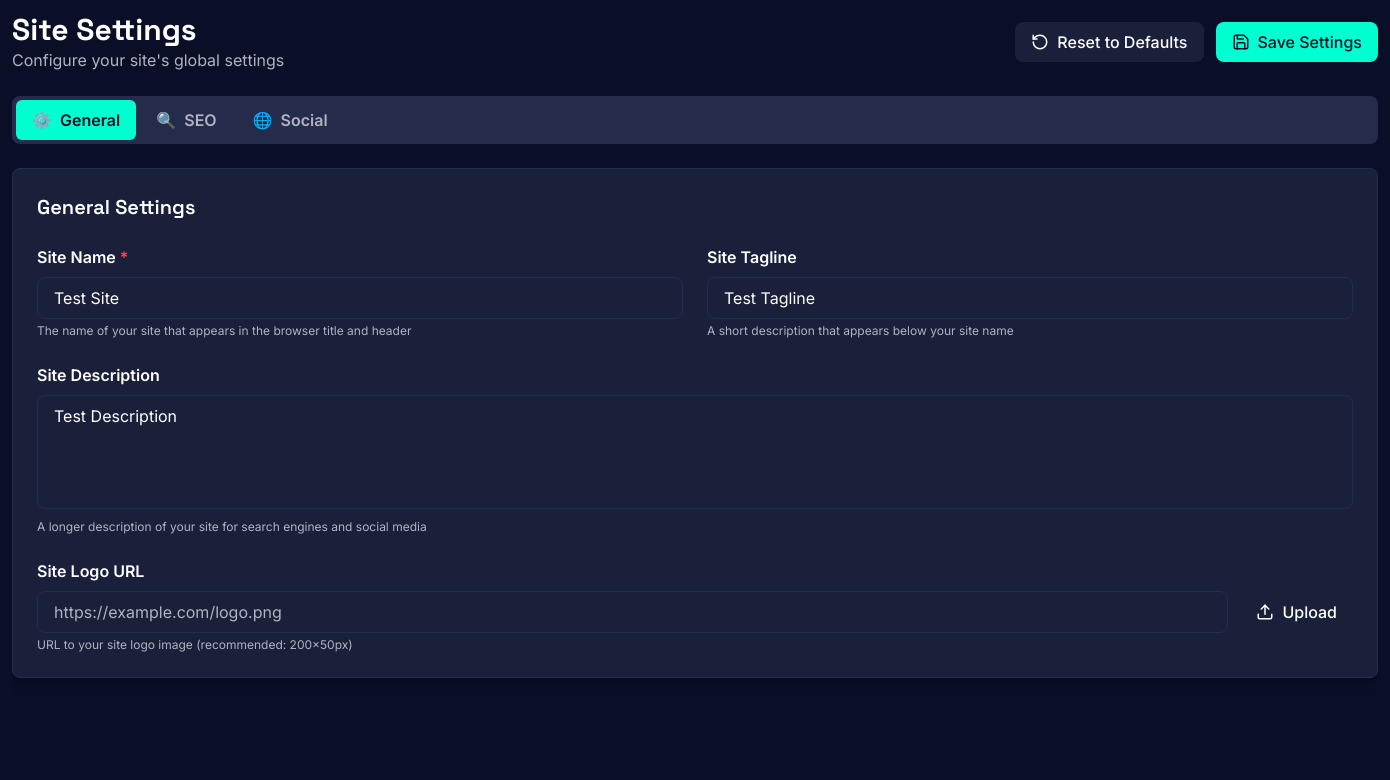
it: SettingsForm › should disable buttons while saving
This screenshot has width=1390, height=780.
Click the button "Save Settings" at (1297, 42), box [1216, 22, 1378, 62]
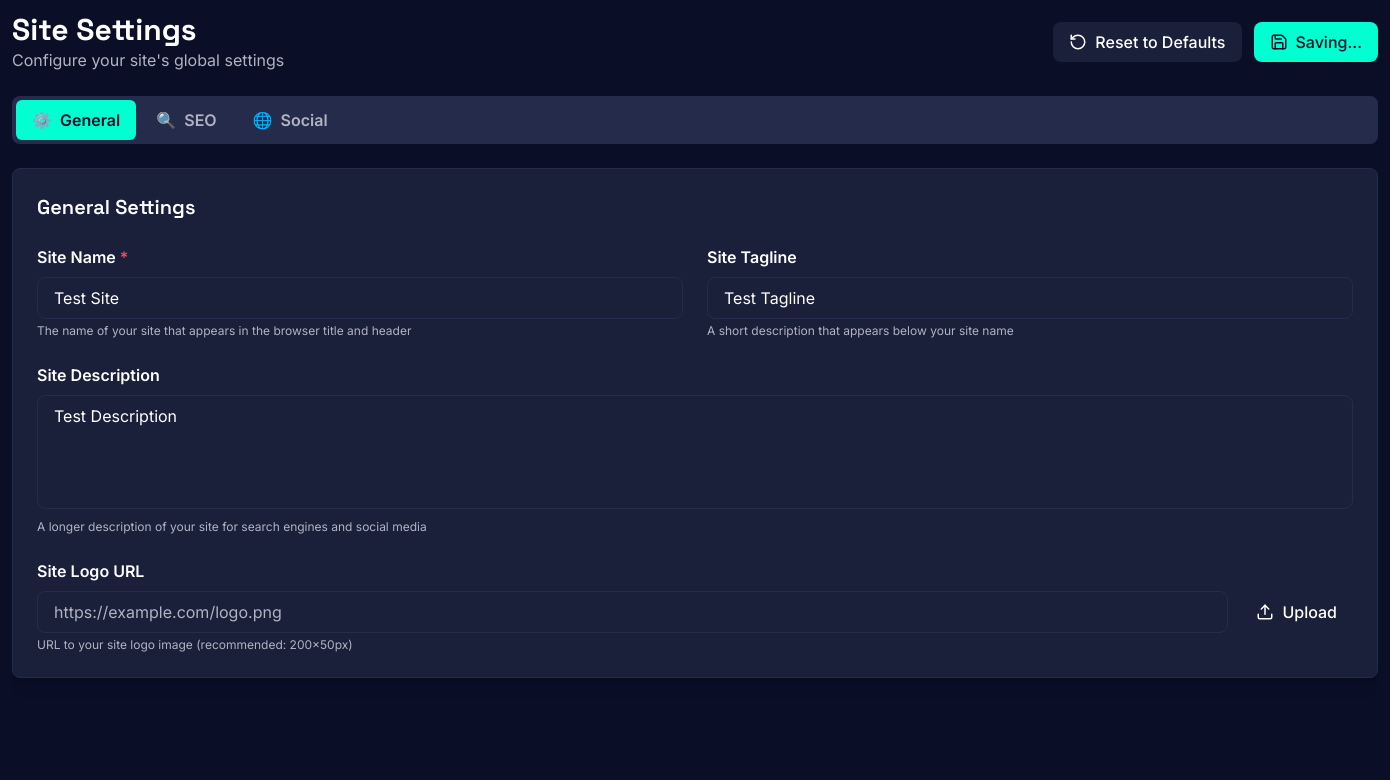
Expected: the button "Saving..." is disabled, [1254, 22, 1378, 62]
Expected: the button "Reset to Defaults" is disabled, [1053, 22, 1242, 62]
